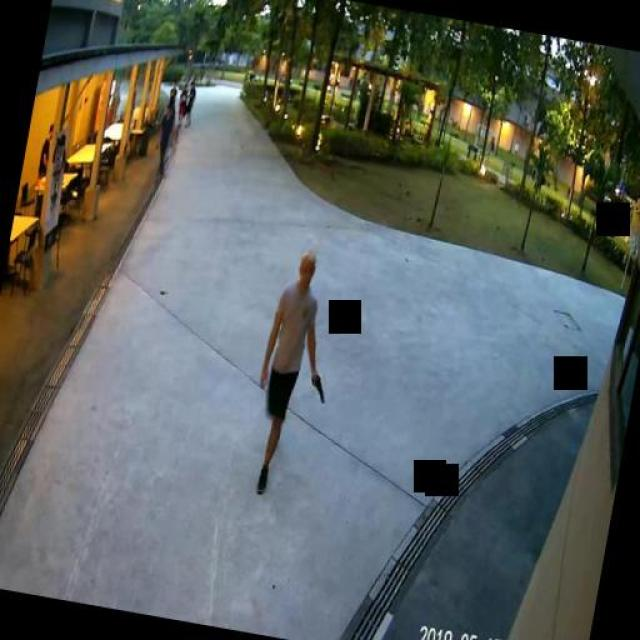gun: (305, 366, 326, 400)
